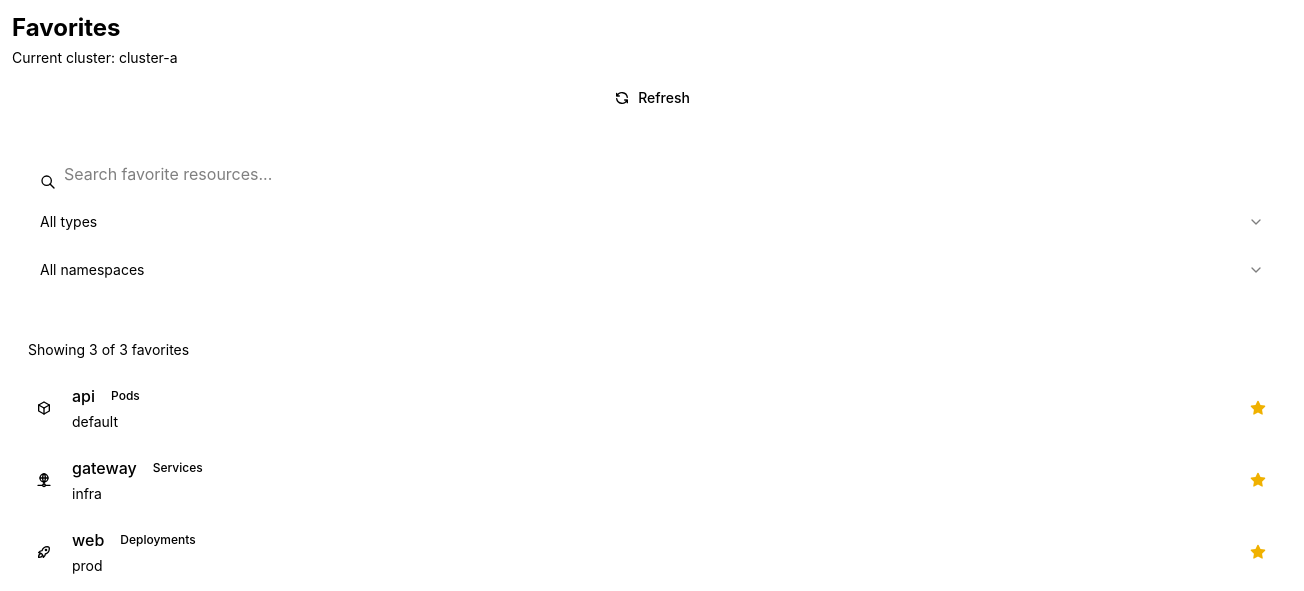
Test: FavoritesPage › removes a favorite from the current list immediately
What coordinates should you click on to do the following:
click the 1st button named "Remove favorite"
I would click on:
 (1258, 408)
Its box is [1240,390,1276,426].
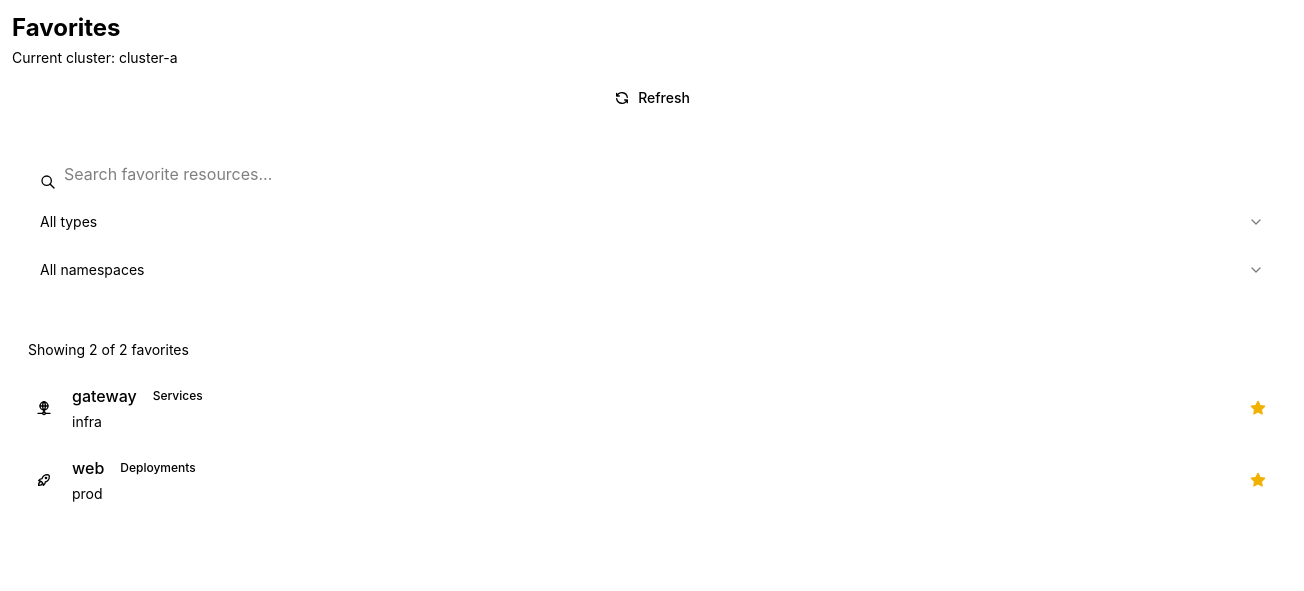
Expected: the button "api" is gone
